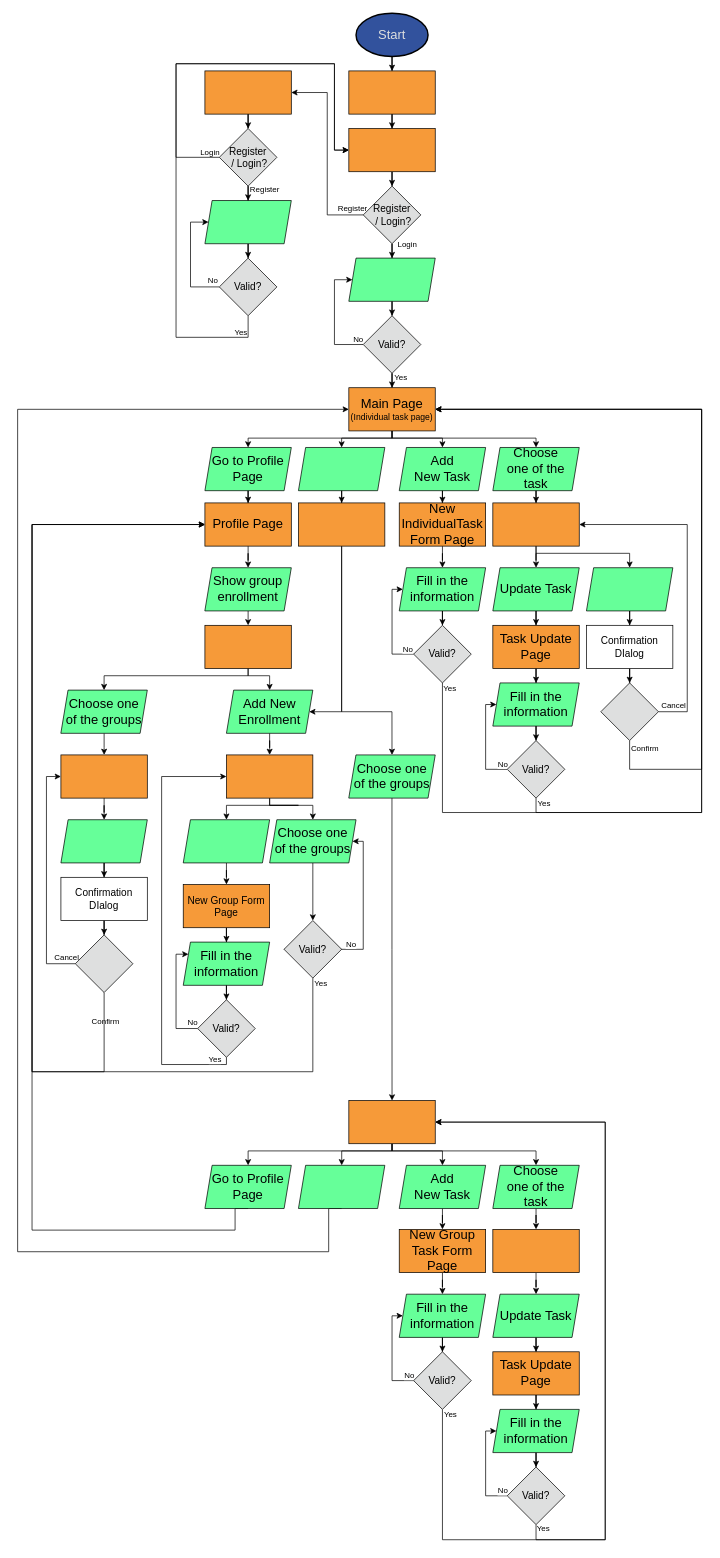
This 720x1558 diagram has some shape labels left out. Each missing label, with the box of its shape:
Add New Group: (183, 819, 270, 863)
Delete Task: (586, 567, 673, 611)
Delete?: (600, 682, 658, 741)
Get Login Information: (348, 257, 435, 301)
Get Register Information: (204, 200, 291, 244)
Go to Group task page: (298, 447, 385, 491)
Go to Individual task page: (298, 1165, 385, 1209)
Group Detail Page: (60, 754, 147, 798)
Group Enrollment Page: (204, 625, 291, 669)
Group selection page: (298, 502, 385, 546)
Group Task Detail Page: (492, 1229, 579, 1273)
Group Task Page: (348, 1100, 435, 1144)
IndividualTask Detail Page: (492, 502, 579, 546)
Login Page: (348, 128, 435, 172)
New Enrollment Form Page: (226, 754, 313, 798)
Register Page: (204, 70, 291, 114)
Splash Screen: (348, 70, 435, 114)
Unenroll group: (60, 819, 147, 863)
Unenroll?: (75, 934, 133, 993)
